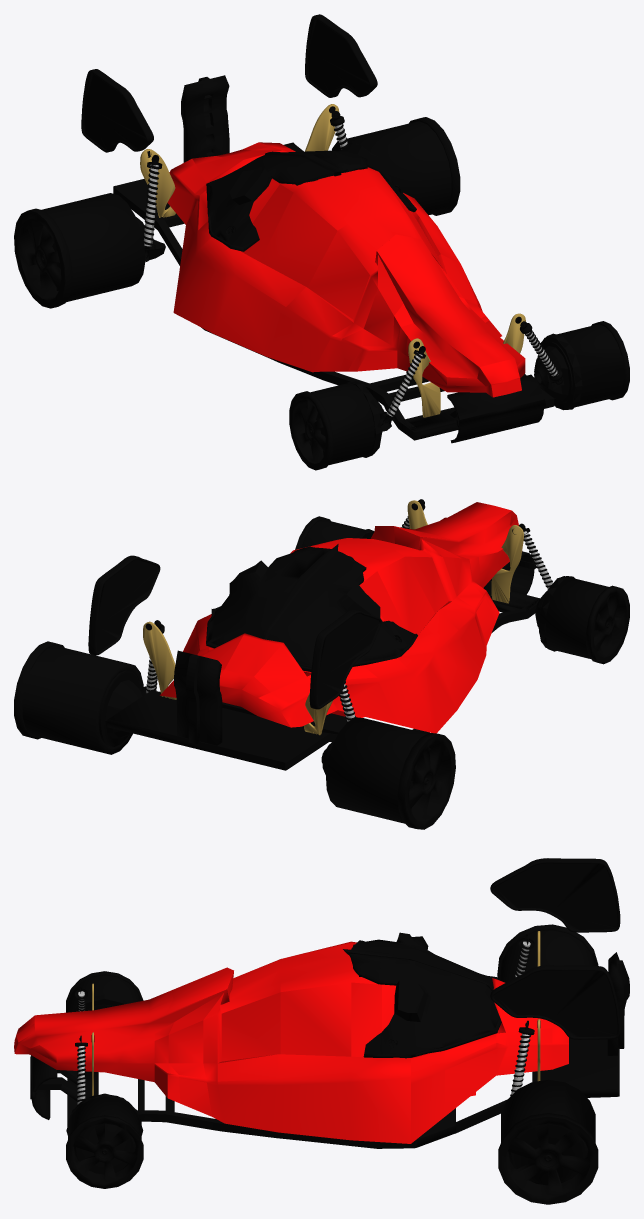
Rendered from car_LOD0.fbx.
The picture shows the model from 3 angles, top to bottom: view 1: azimuth 30°, elevation 25°; view 2: azimuth 150°, elevation 25°; view 3: azimuth 270°, elevation 25°; orthographic projection.
Parts seen in each view (by area): view 1: car; view 2: car; view 3: car.
Part boxes in pixels (<box>): car: <box>14,14,629,470</box>; car: <box>14,499,629,829</box>; car: <box>14,858,629,1204</box>.
Bounding box in the file's own units: 825 × 413 × 1133.
